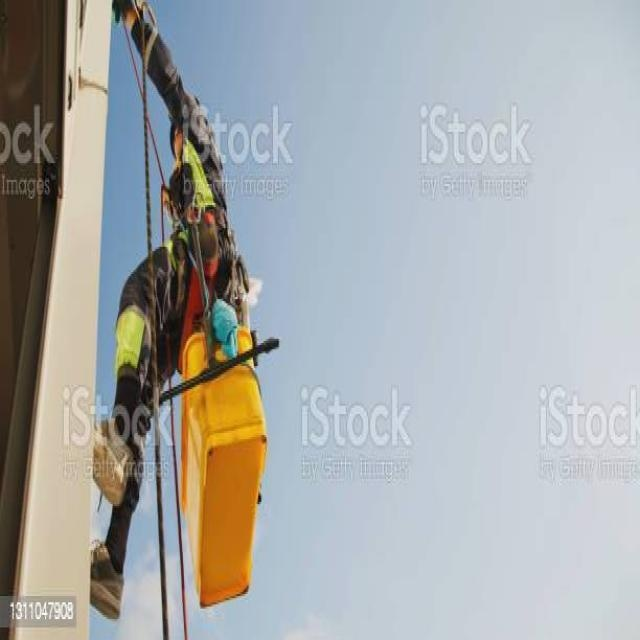Arnes_seguridad: (151, 99, 241, 362)
